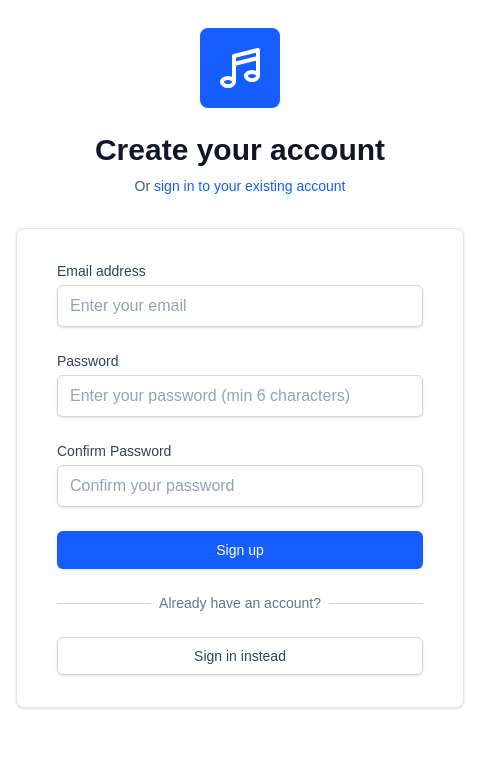
Scenario: SignUpPage › should show error message when signUp fails
Type "test@example.com" into the field labelled "Email address" at (240, 306), box [57, 285, 423, 327]
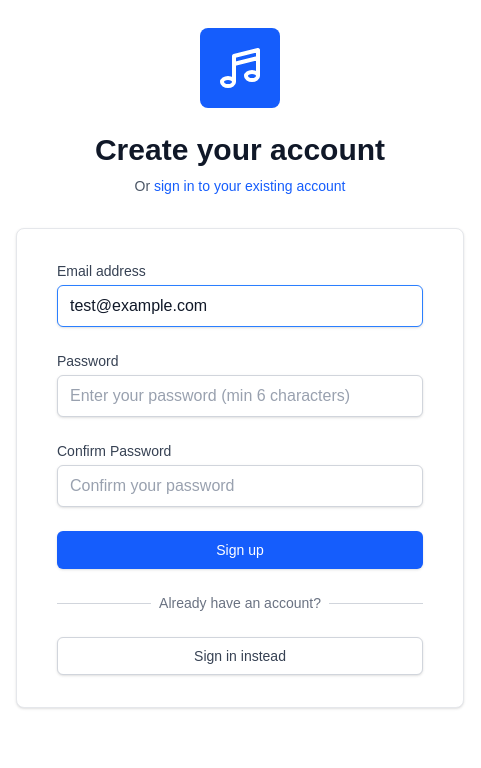
Type "password123" into the password field labelled "Password" at (240, 396), box [57, 375, 423, 417]
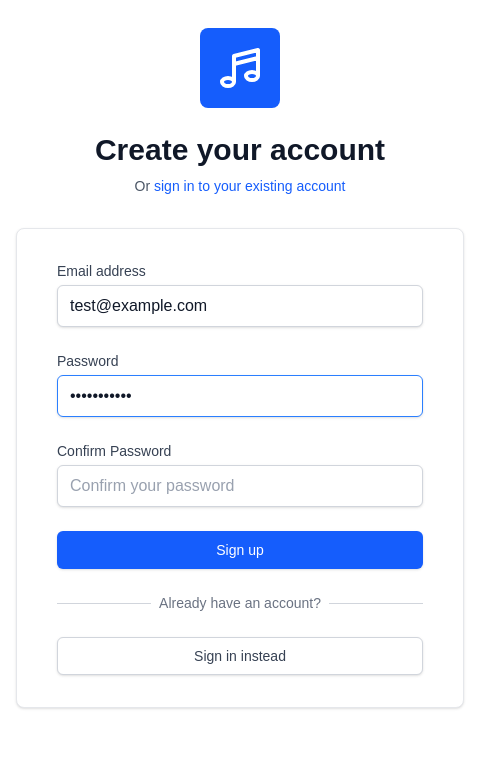
Type "password123" into the password field labelled "Confirm Password" at (240, 486), box [57, 465, 423, 507]
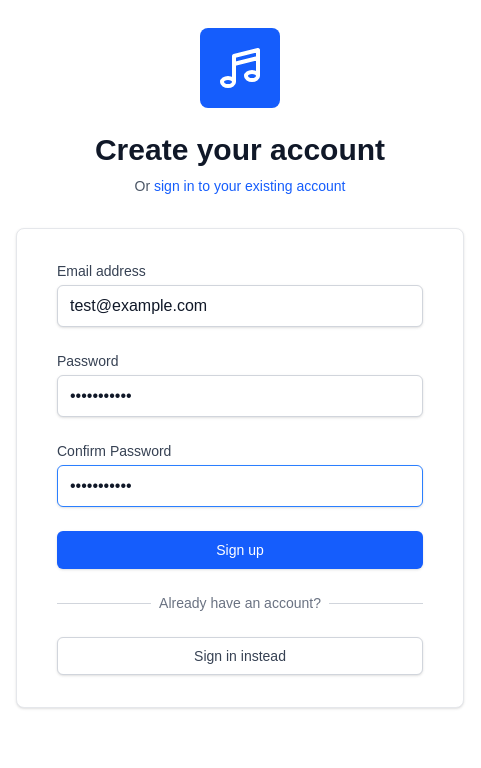
Click the button "Sign up" at (240, 550), box [57, 531, 423, 569]
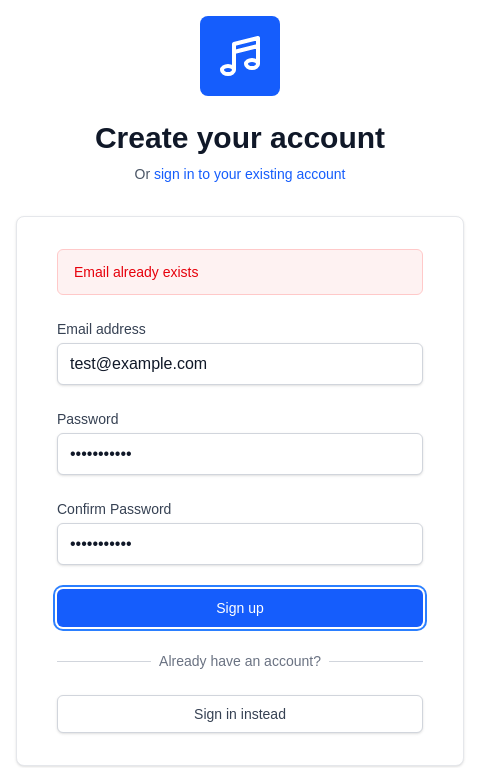
Check: the text "Email already exists" is shown, box [57, 249, 423, 295]
